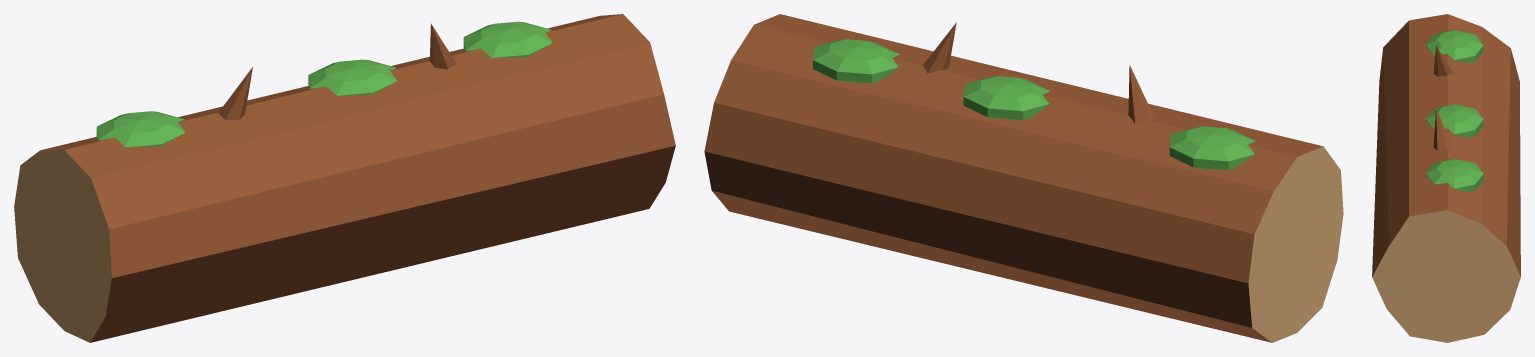
File: Log.fbx
3 views of the same model, side by side, from view 1: azimuth 30°, elevation 25°; view 2: azimuth 150°, elevation 25°; view 3: azimuth 270°, elevation 25° (orthographic). The views are drawn at different scales.
Parts seen in each view (by area): view 1: Log; view 2: Log; view 3: Log.
Part boxes in pixels (bbox=[...]): Log: bbox=[14, 14, 675, 342]; Log: bbox=[704, 14, 1343, 342]; Log: bbox=[1372, 14, 1520, 342].
Bounding box in the file's own units: 1.98 × 0.7805 × 0.636.
1 material, 1 textured.
